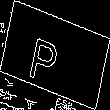P_N: (38, 26, 72, 84)
